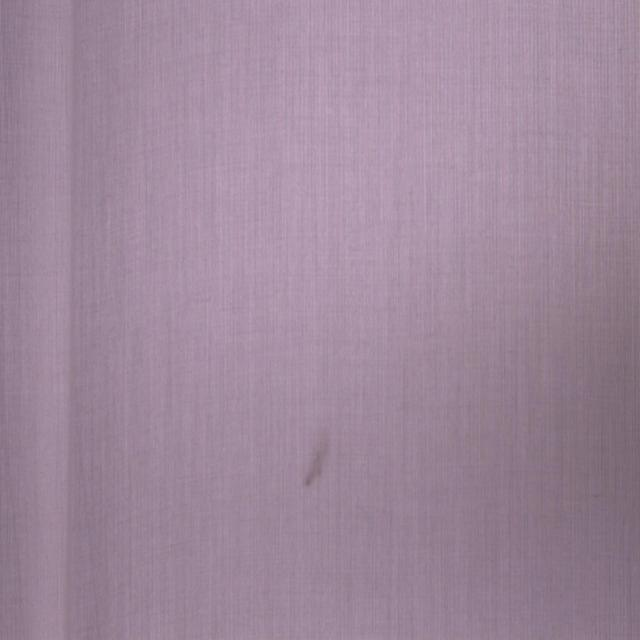dirty: (305, 429, 328, 491)
